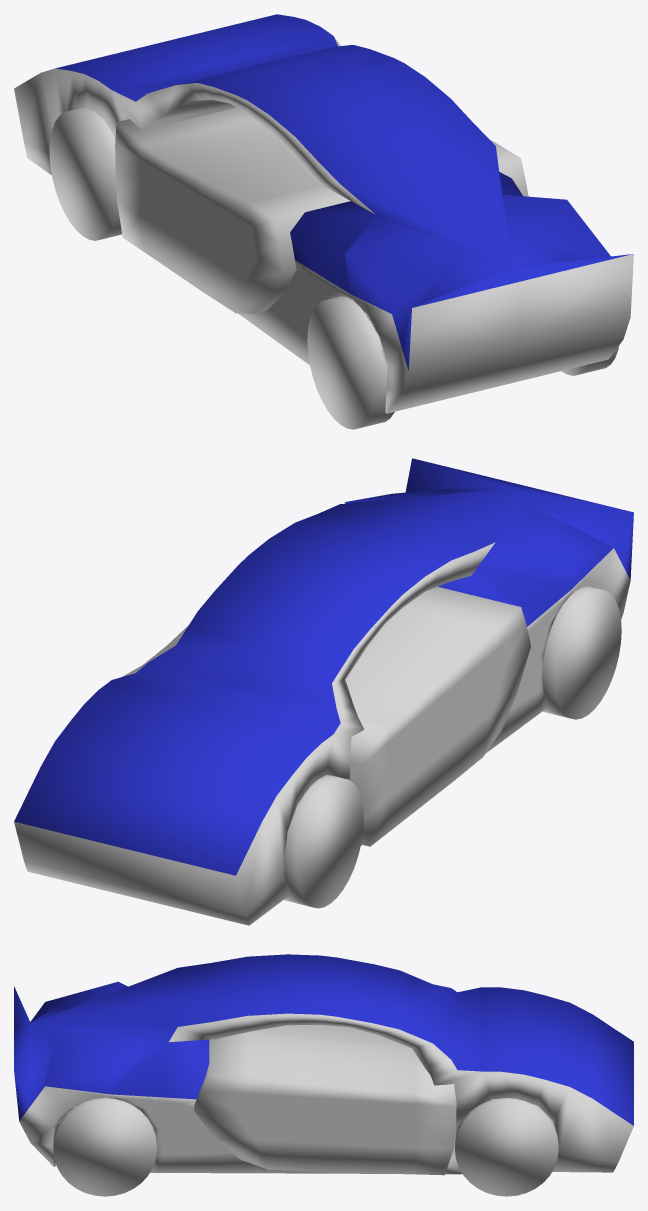
The model's file is ExportedBlenderFBXFile.fbx.
3 views of the same model, one above another, from view 1: azimuth 30°, elevation 25°; view 2: azimuth 150°, elevation 25°; view 3: azimuth 270°, elevation 25° (orthographic). The views are drawn at different scales.
Parts seen in each view (by area): view 1: Cube; view 2: Cube; view 3: Cube.
Part boxes in pixels (left/top/right/bottom): Cube: left=14, top=14, right=633, bottom=429; Cube: left=14, top=458, right=633, bottom=925; Cube: left=14, top=954, right=633, bottom=1196.
Bounding box in the file's own units: 3.27 × 2.69 × 9.1.
